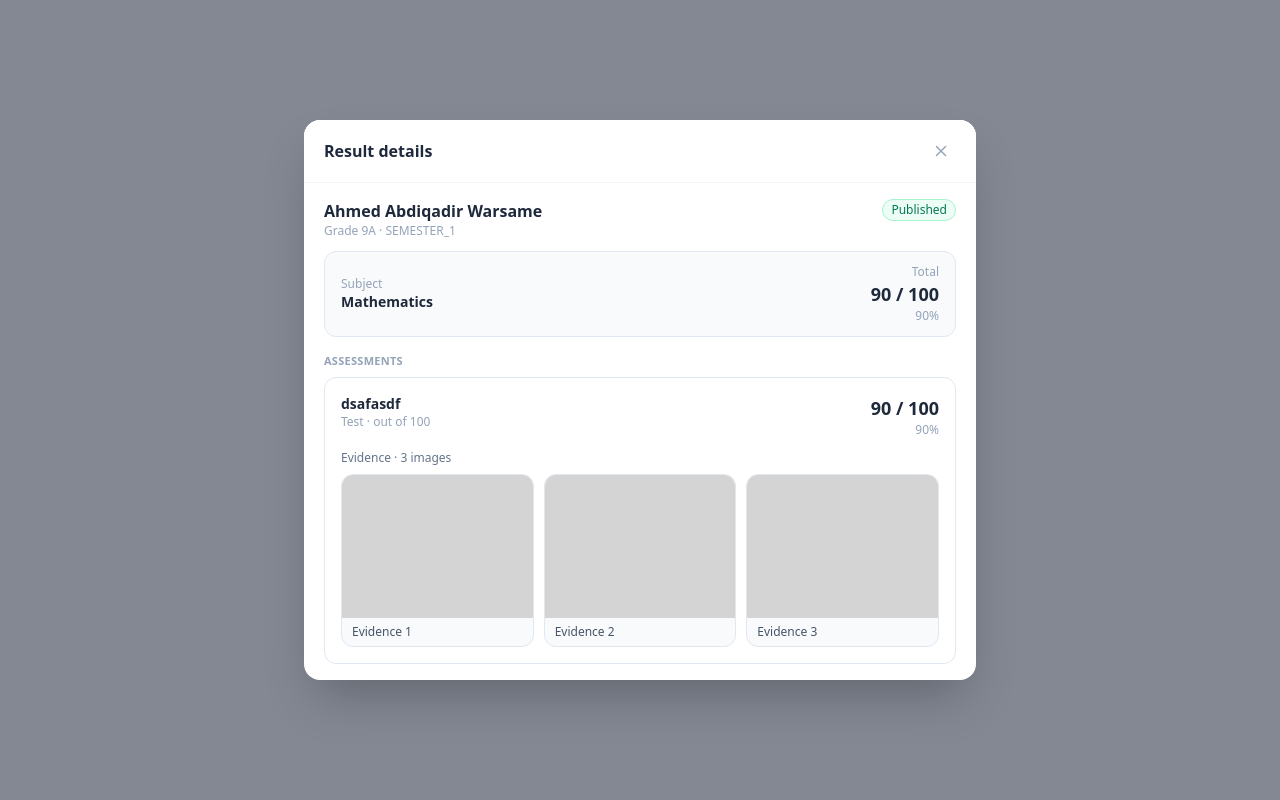
Scenario: Evidence viewer downloads (images, never a PDF) › Download this image saves only the viewed image, with a descriptive name and its own format
Click the button with aria-label "Open evidence 1 of 3".
click(437, 561)  # box [341,474,534,647]
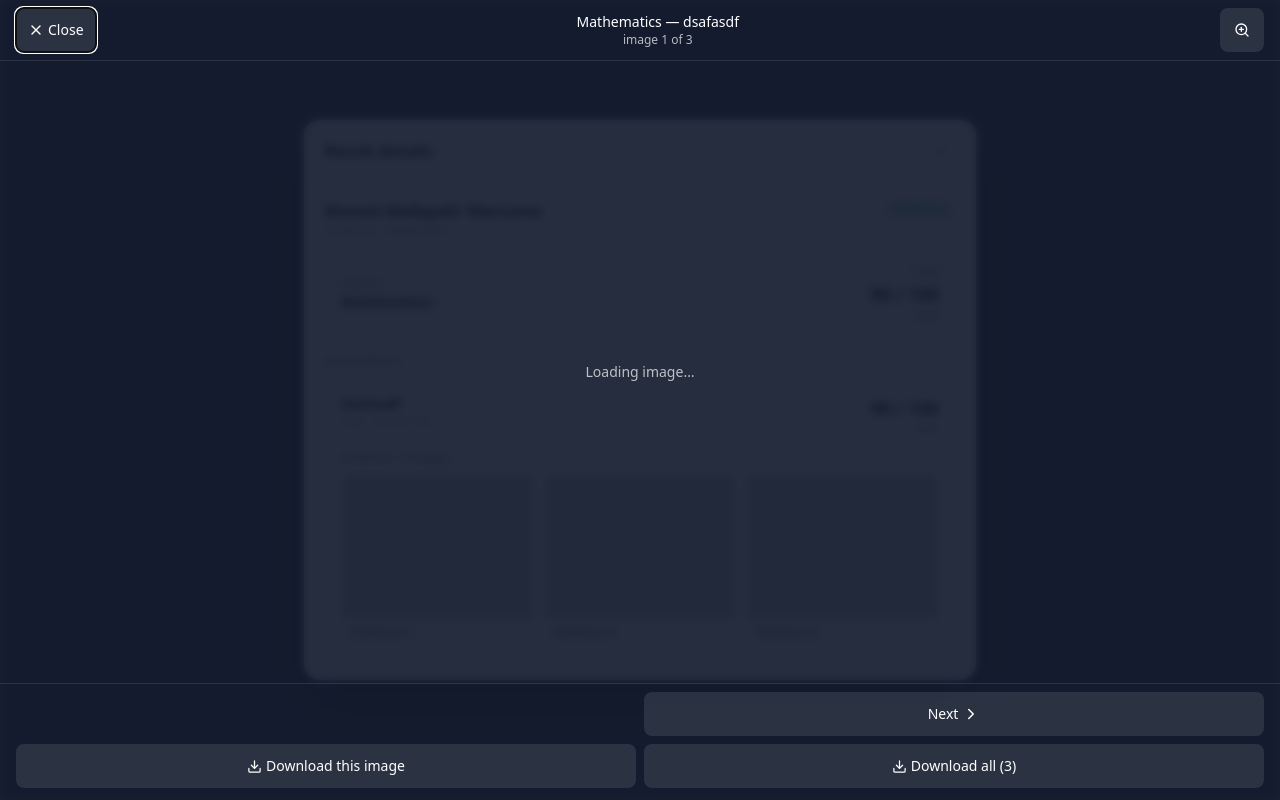
Click the button with aria-label "Next image".
click(954, 714)  # box [644,692,1264,736]
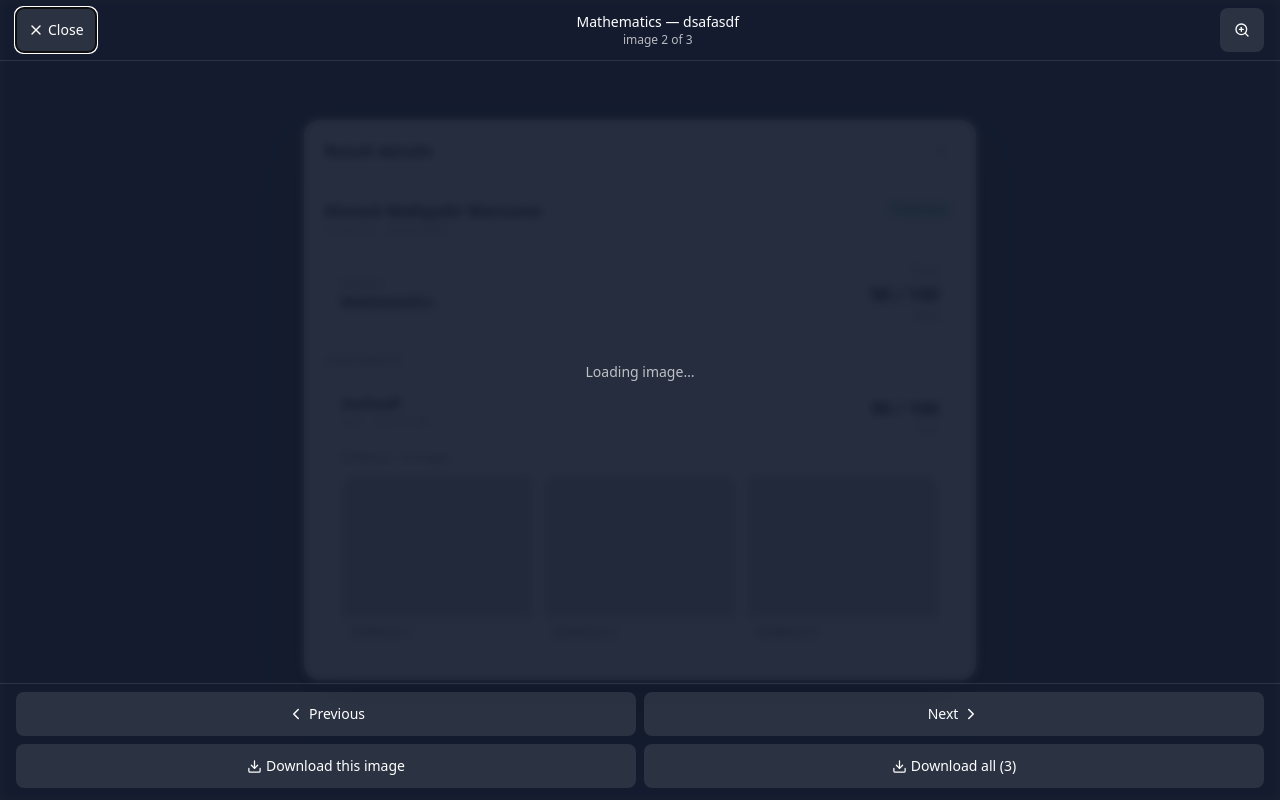
Click the button "Download this image".
click(326, 766)  # box [16,744,636,788]
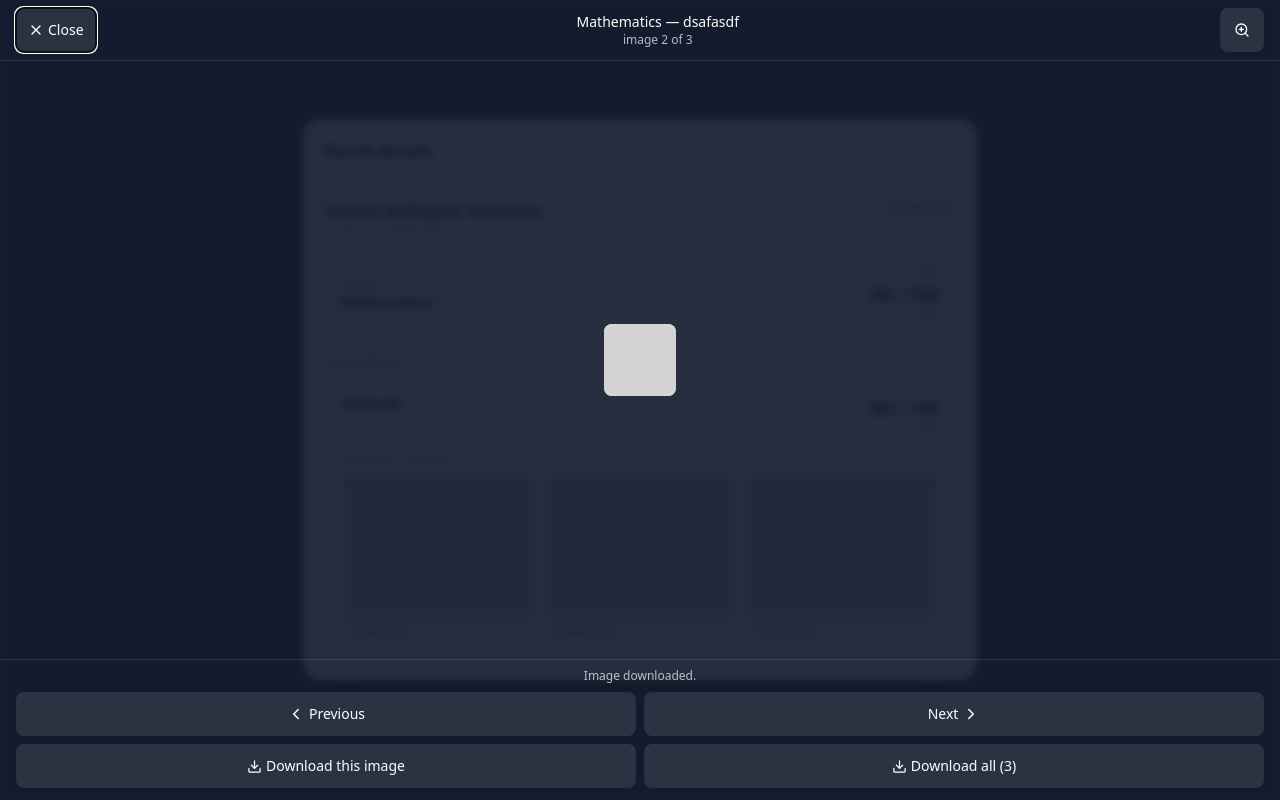
Now the text "Image downloaded." is shown, box [584,667,696,684]
